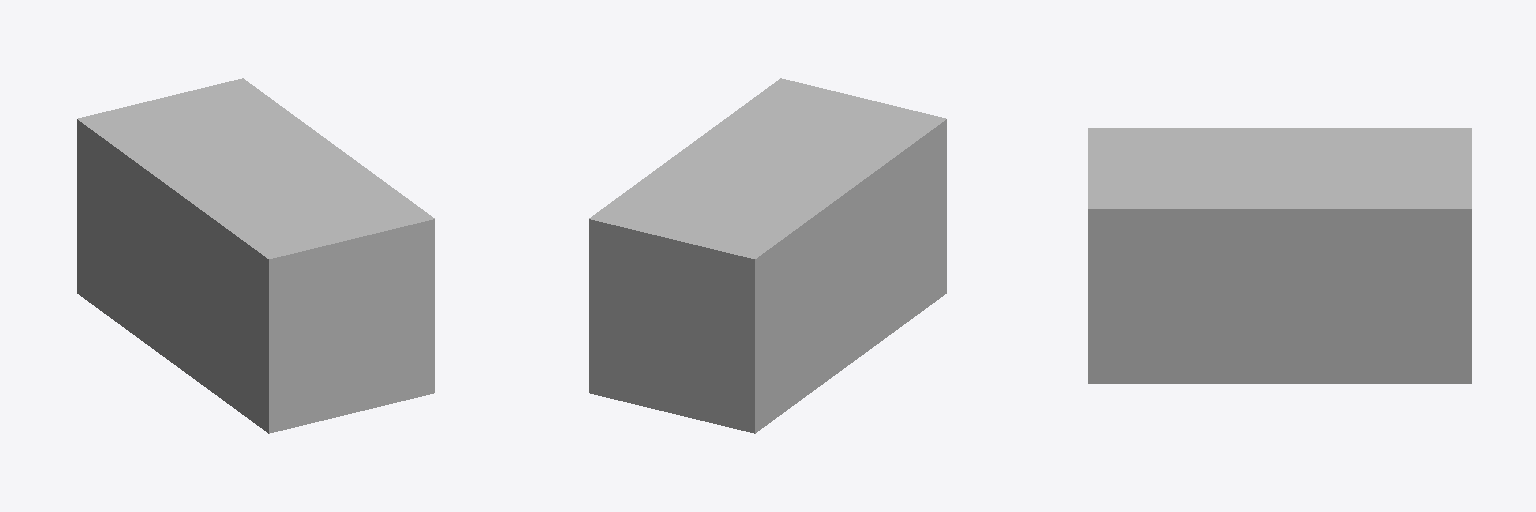
3 renders of one model, left to right at view 1: azimuth 30°, elevation 25°; view 2: azimuth 150°, elevation 25°; view 3: azimuth 270°, elevation 25°, orthographic.
Visible parts, largest first — view 1: wr_export; view 2: wr_export; view 3: wr_export.
Part boxes in pixels (x1,y1,x2,y2): wr_export: (77, 78, 434, 433); wr_export: (589, 78, 946, 433); wr_export: (1088, 128, 1471, 383).
Size of the model in its own units: 16 by 16 by 32.